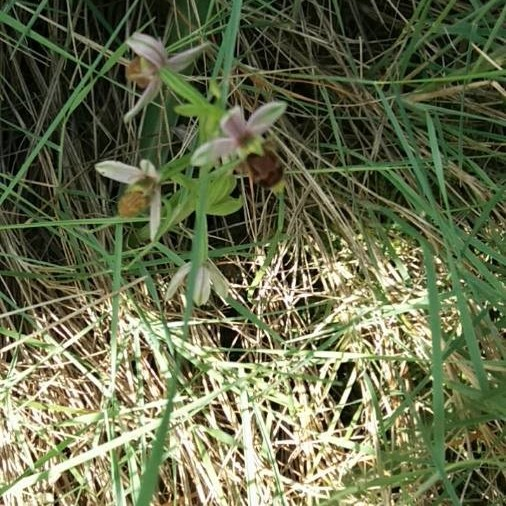obstacle: (62, 32, 281, 491)
